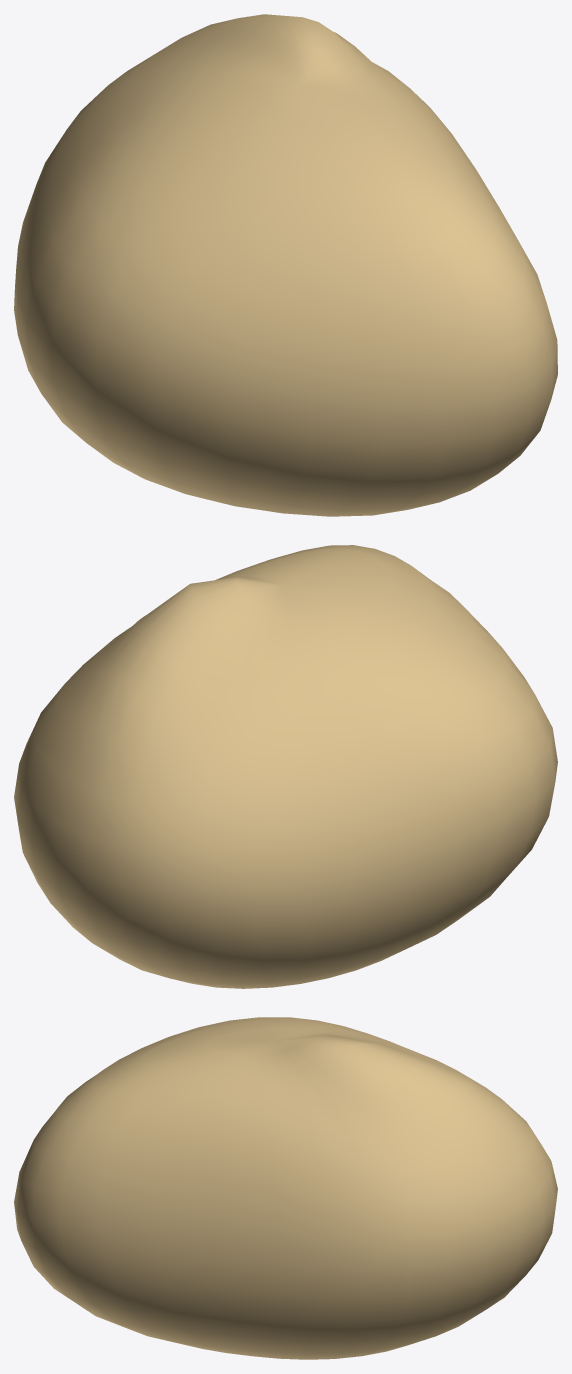
File: Dough.fbx
The picture shows the model from 3 angles, top to bottom: view 1: azimuth 30°, elevation 25°; view 2: azimuth 150°, elevation 25°; view 3: azimuth 270°, elevation 25°; orthographic projection. The views are drawn at different scales.
Parts seen in each view (by area): view 1: Dough; view 2: Dough; view 3: Dough.
Boxes of the visible parts, x1,y1,x2,y2 form: Dough: (14, 14, 557, 516); Dough: (14, 545, 557, 988); Dough: (14, 1017, 557, 1359).
Bounding box in the file's own units: 78.59 × 64.94 × 102.
